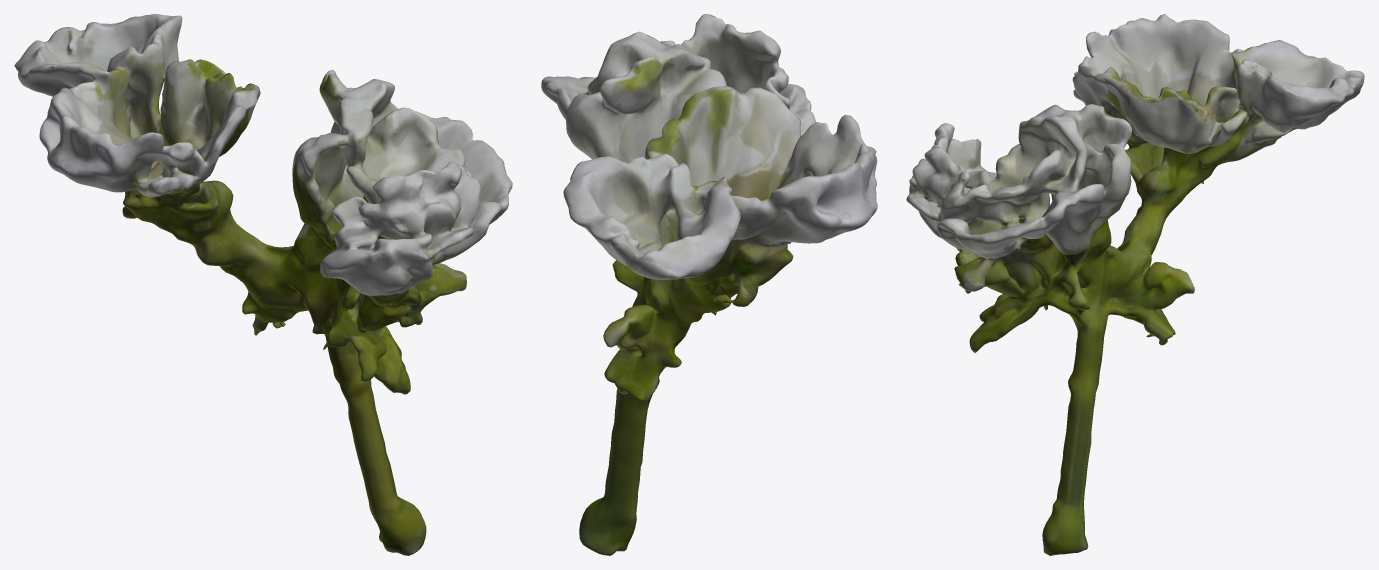
The model's file is shrub0069.gltf.
3 renders of one model, left to right at view 1: azimuth 30°, elevation 25°; view 2: azimuth 150°, elevation 25°; view 3: azimuth 270°, elevation 25°, orthographic. The views are drawn at different scales.
Visible parts, largest first — view 1: Mesh_0.043; view 2: Mesh_0.043; view 3: Mesh_0.043.
Boxes of the visible parts, x1,y1,x2,y2 form: Mesh_0.043: (14, 14, 512, 555); Mesh_0.043: (541, 14, 877, 555); Mesh_0.043: (906, 14, 1364, 555).
Bounding box in the file's own units: 1.61 × 1.98 × 1.92.
1 material, 1 textured.
